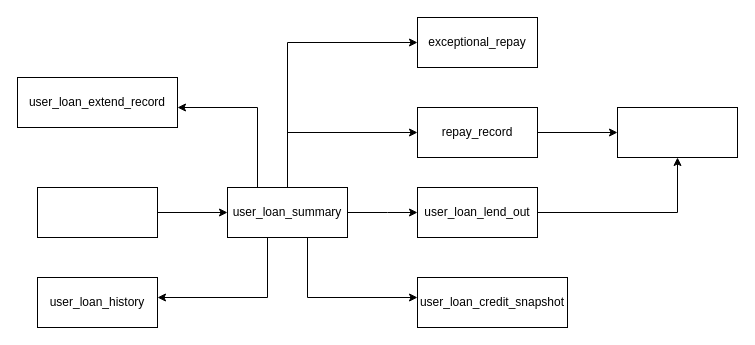
The diagram is 755 pixels wide and 345 high, and some of its shapes have lost their labels. The shapes that lost their labels are listed below. From the top down, each one's box as (x1, y1, x2, y2) in pixels, then its label:
(616, 106, 738, 158): user_cash_flow
(36, 186, 158, 238): user_loan
